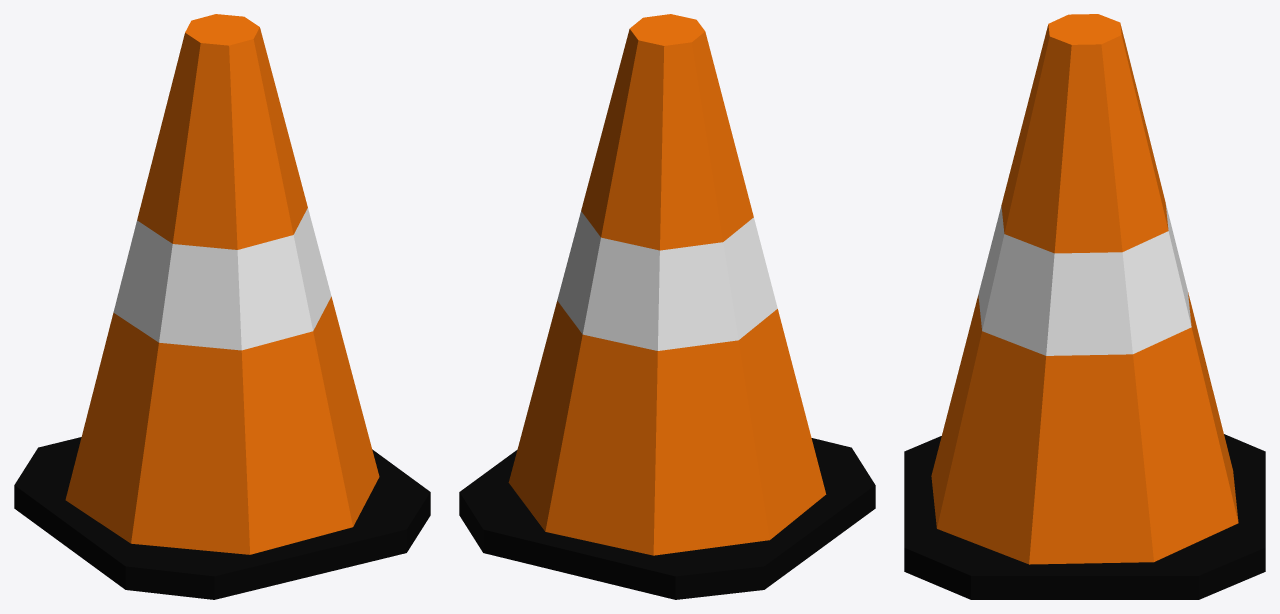
Rendered from Prop_RoadCone_01.fbx.
3 views of the same model, side by side, from view 1: azimuth 30°, elevation 25°; view 2: azimuth 150°, elevation 25°; view 3: azimuth 270°, elevation 25° (orthographic). The views are drawn at different scales.
Visible parts, largest first — view 1: Prop_RoadCone_01; view 2: Prop_RoadCone_01; view 3: Prop_RoadCone_01.
Boxes of the visible parts, x1,y1,x2,y2 form: Prop_RoadCone_01: [14, 14, 430, 599]; Prop_RoadCone_01: [459, 14, 875, 599]; Prop_RoadCone_01: [904, 14, 1265, 599].
Bounding box in the file's own units: 51.39 × 77.62 × 51.39.
